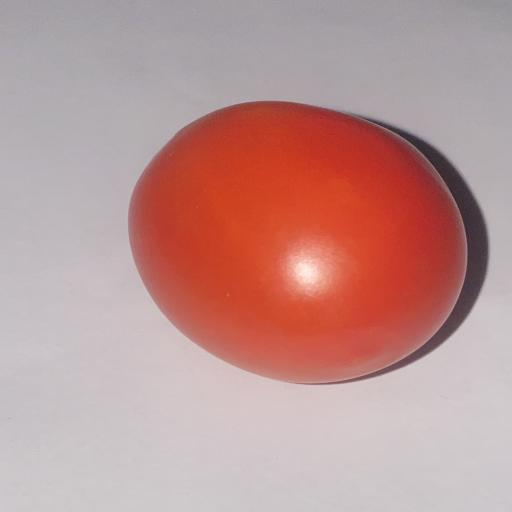ripe: (129, 102, 466, 383)
